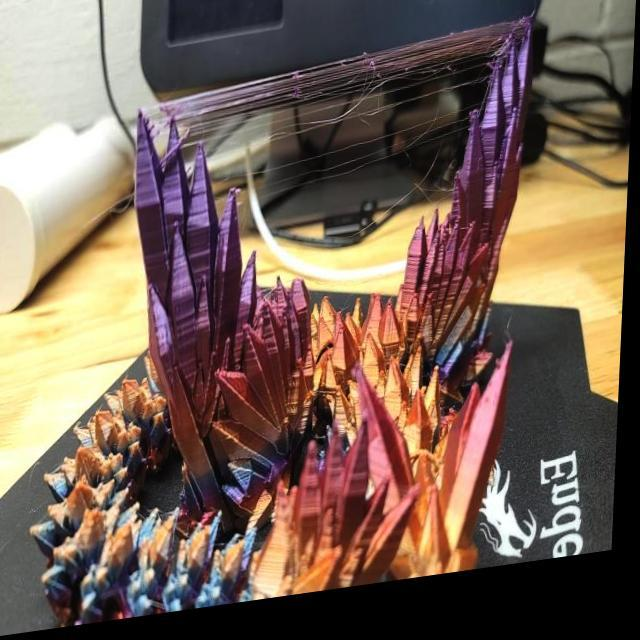stringing: (148, 35, 530, 162)
